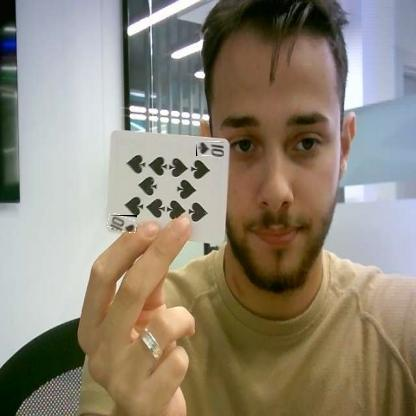10S: (108, 215, 137, 232), (197, 142, 224, 156)
